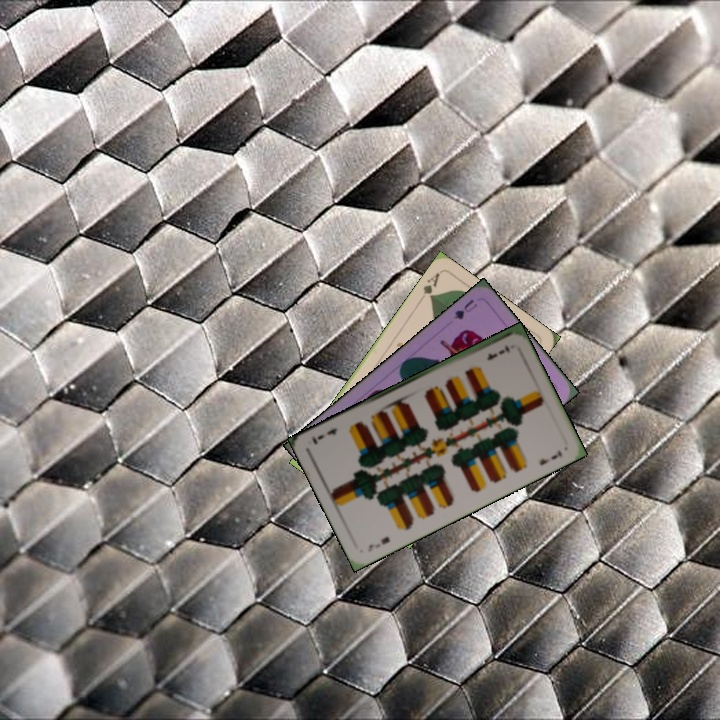E7: (483, 340, 512, 363), (363, 532, 393, 554)
GA: (415, 269, 442, 305)
GU: (450, 295, 480, 322)
